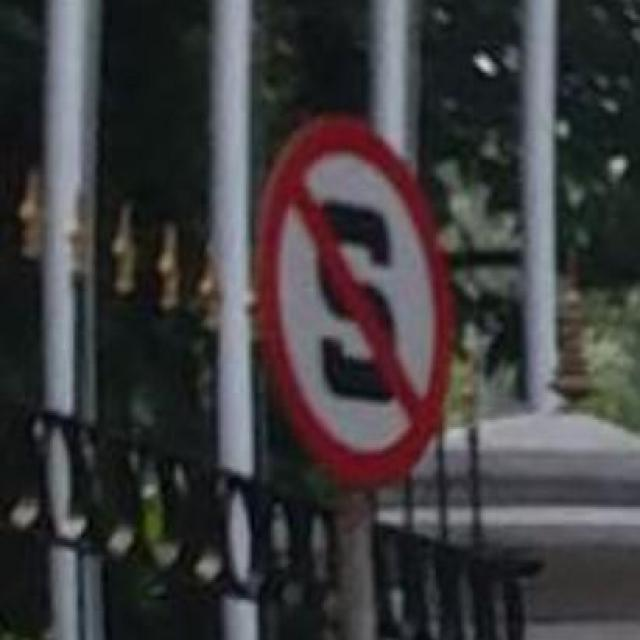traffic sign: (257, 114, 453, 490)
